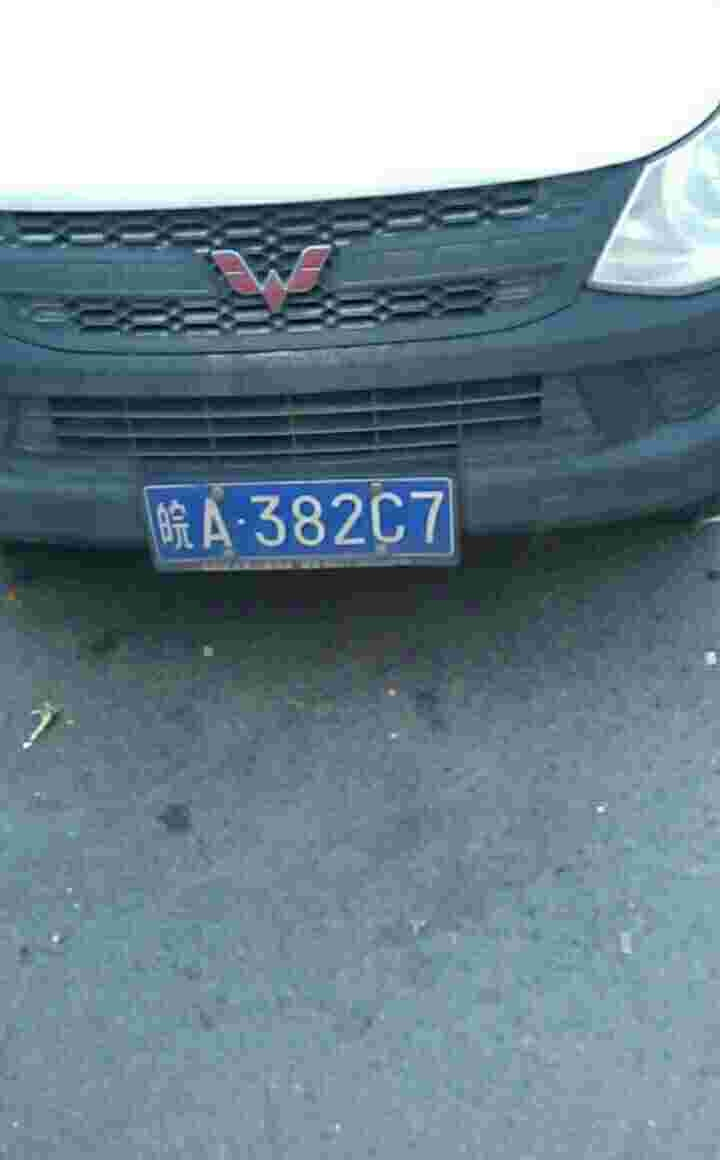license_plate: (152, 481, 458, 572)
